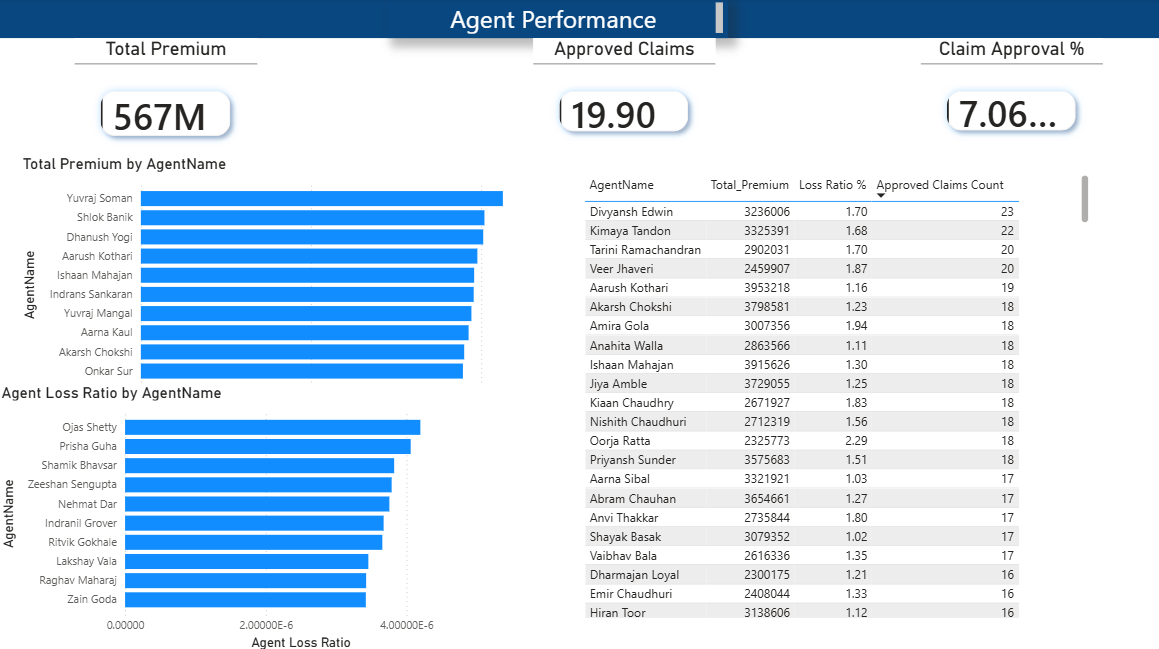

What the dashboard file says about the page in this screenshot:
{"tool":"powerbi","page":{"name":"Page 3","canvas":[1280,720],"ordinal":2},"visuals":[{"type":"shape","box":[0,0,1280,44],"z":0},{"type":"cardVisual","title":"Total Premium","fields":{"Data":["Measure_Table.Total_Premium"]},"box":[85.6,44,200.5,135.7],"z":1000},{"type":"textbox","box":[428,0,374,44],"z":2000},{"type":"cardVisual","title":"Approved Claims","fields":{"Data":["Measure_Table.Claims per Agent"]},"box":[588.9,43.5,199.7,130.6],"z":3000},{"type":"cardVisual","title":"Claim Approval %","fields":{"Data":["Measure_Table.Agent Loss Ratio"]},"box":[1014,43.5,199.7,129.3],"z":4000},{"type":"clusteredBarChart","title":"Total Premium by AgentName","fields":{"Category":["Dim_Agent.AgentName"],"Y":["Measure_Table.Total_Premium"]},"box":[24,172,616,298],"z":5000},{"type":"clusteredBarChart","fields":{"Category":["Dim_Agent.AgentName"],"Y":["Measure_Table.Agent Loss Ratio"]},"box":[0,422,562,298],"z":6000},{"type":"tableEx","fields":{"Values":["Dim_Agent.AgentName","Measure_Table.Total_Premium","Measure_Table.Loss Ratio %","Measure_Table.Approved Claims Count"]},"box":[640,190,564,496],"z":7000}]}

Visuals, with their boxes in screenshot pixels (x1, y1, x2, y2), scaled from the page's 1280x720 canvas onto the 1159x649 screenshot:
shape: Rect(0, 0, 1158, 40)
"Total Premium" cardVisual: Rect(78, 40, 259, 162)
textbox: Rect(388, 0, 726, 40)
"Approved Claims" cardVisual: Rect(533, 39, 714, 157)
"Claim Approval %" cardVisual: Rect(918, 39, 1099, 156)
"Total Premium by AgentName" clusteredBarChart: Rect(22, 155, 580, 424)
clusteredBarChart - Dim_Agent.AgentName x Measure_Table.Agent Loss Ratio: Rect(0, 380, 509, 648)
tableEx - Dim_Agent.AgentName x Measure_Table.Total_Premium: Rect(580, 171, 1090, 618)
